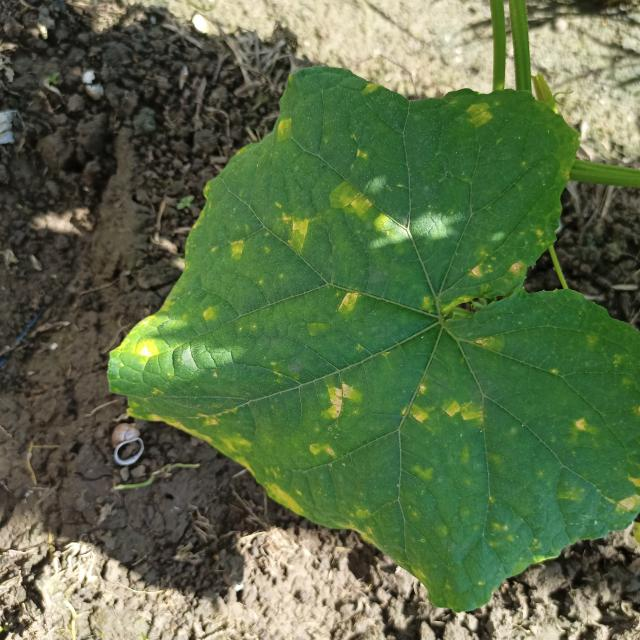disease_cucumber: (117, 70, 640, 569)
